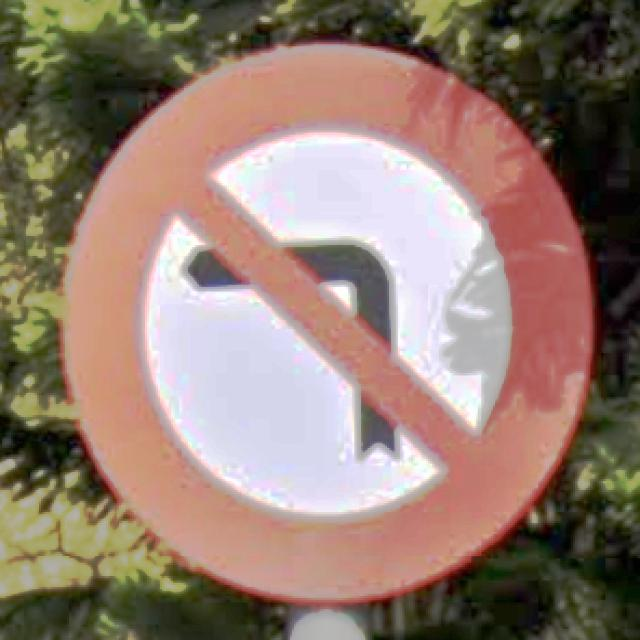noturnleft: (58, 44, 595, 607)
